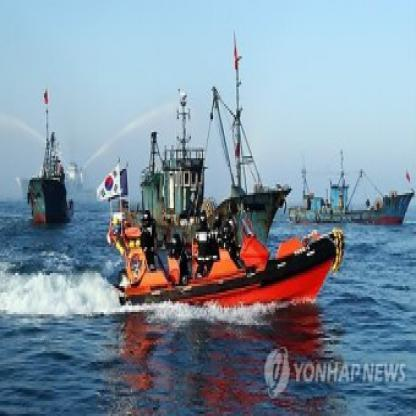fish-b: (94, 100, 355, 327), (288, 143, 414, 236), (25, 91, 88, 238)
